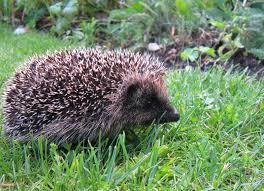hedgehog: (7, 55, 183, 147)
